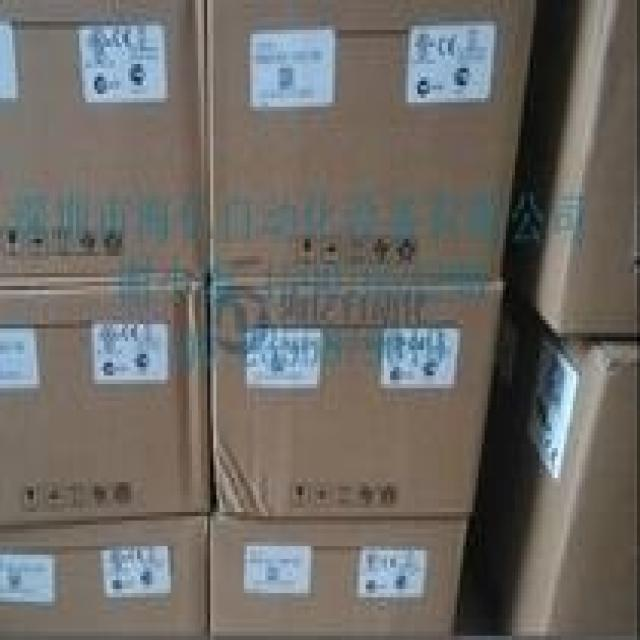box: (210, 277, 500, 516), (469, 269, 640, 636), (0, 277, 213, 529), (506, 0, 637, 341), (207, 516, 472, 640), (0, 516, 210, 640)
